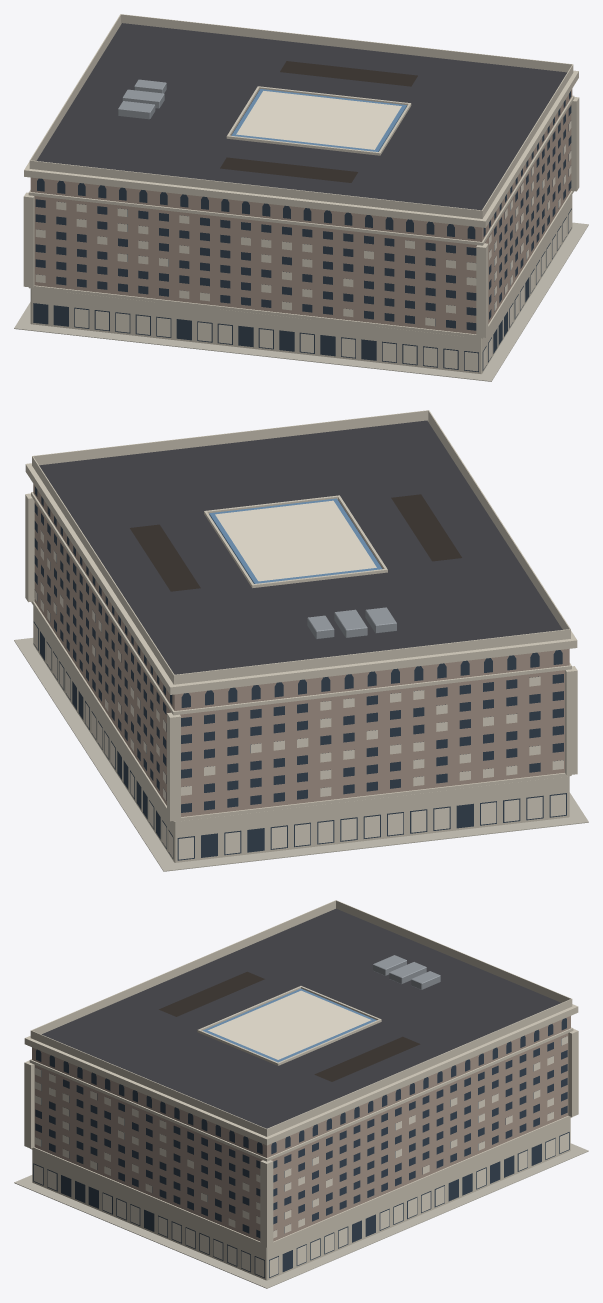
The model's file is palace-hotel.glb.
The picture shows the model from 3 angles, top to bottom: view 1: azimuth 30°, elevation 25°; view 2: azimuth 150°, elevation 25°; view 3: azimuth 270°, elevation 25°; orthographic projection. The views are drawn at different scales.
Parts seen in each view (by area): view 1: palace-hotel_body, palace-hotel_night_glow; view 2: palace-hotel_body, palace-hotel_night_glow; view 3: palace-hotel_body, palace-hotel_night_glow.
Boxes of the visible parts, <box> form: palace-hotel_body: <box>14,14,588,381</box>; palace-hotel_night_glow: <box>35,61,571,371</box>; palace-hotel_body: <box>14,410,588,871</box>; palace-hotel_night_glow: <box>33,494,565,859</box>; palace-hotel_body: <box>14,900,588,1288</box>; palace-hotel_night_glow: <box>34,971,568,1276</box>.
Size of the model in its own units: 137 by 40 by 137.
